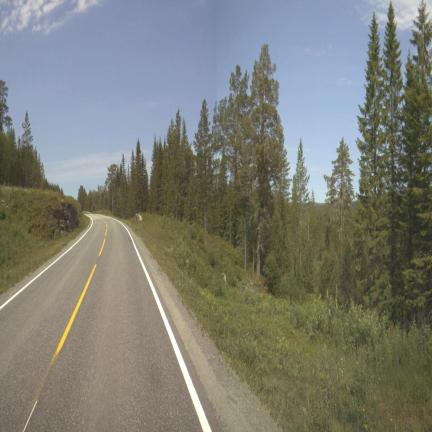Road: (0, 215, 214, 431)
